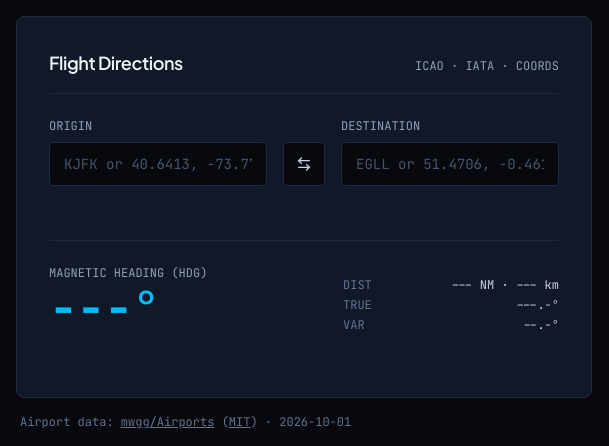
App › invalid location input › moves the error style with the input when the fields are swapped
This screenshot has width=609, height=446.
Type "48, 14" into the field labelled "ORIGIN" at point(158, 164), box [49, 142, 267, 186]
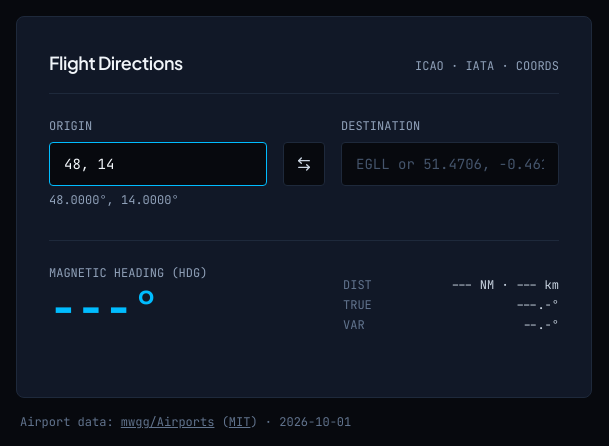
Type "91, 0" into the field labelled "DESTINATION" at point(450, 164), box [341, 142, 559, 186]
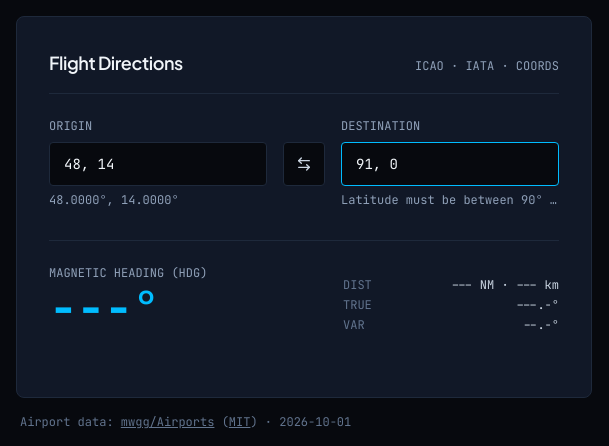
Click the button named "Swap origin and destination" at point(304, 164), box [283, 142, 325, 186]
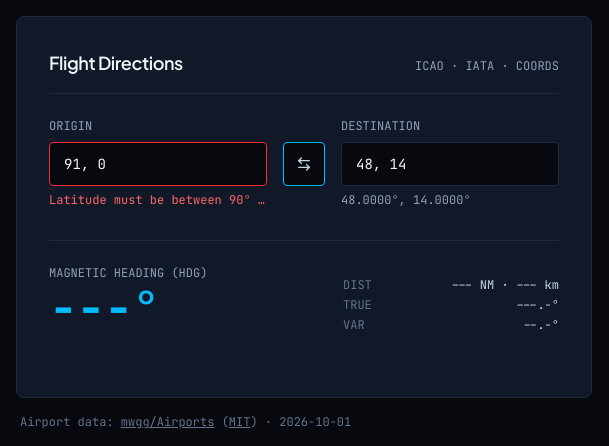
expect the field labelled "ORIGIN" is marked as invalid: met, box [49, 142, 267, 186]
